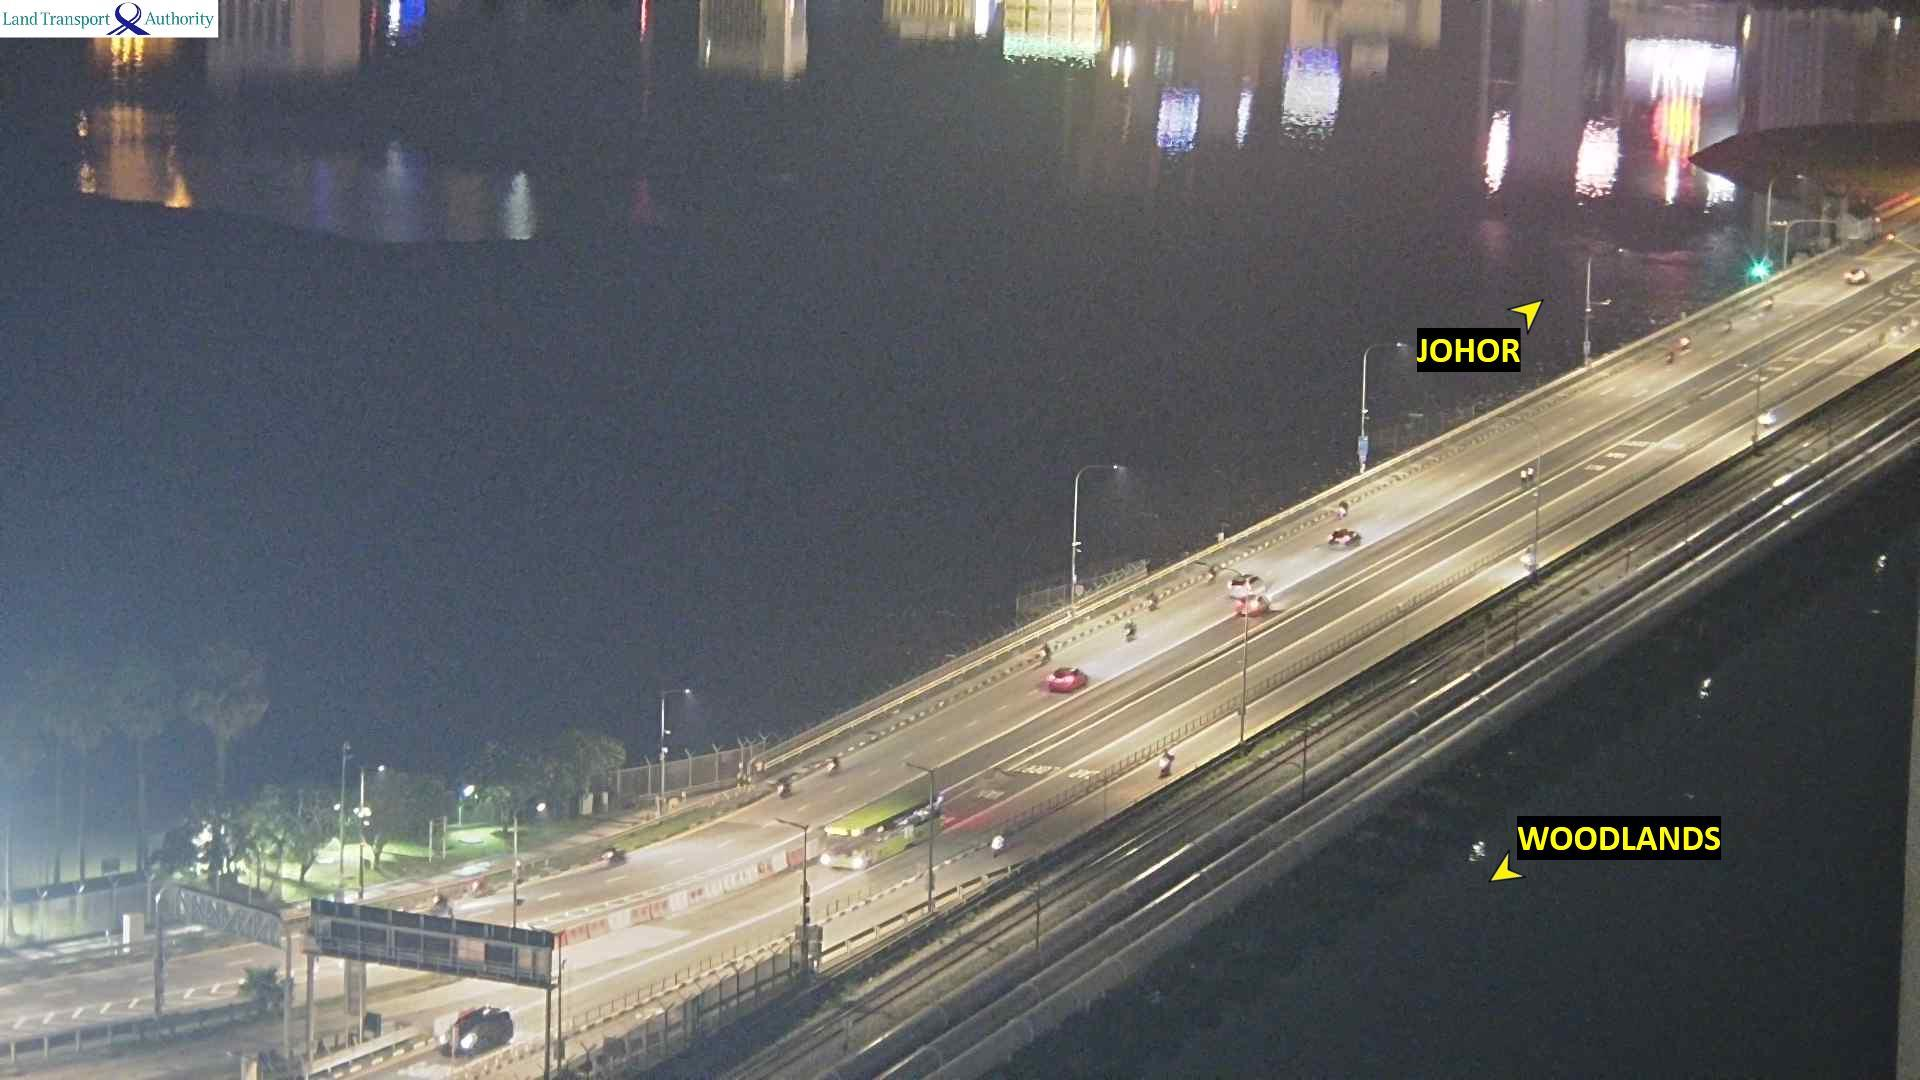vehicle-causeway-johor: (1051, 665, 1088, 690), (1233, 572, 1269, 593), (1237, 596, 1271, 616), (1329, 527, 1360, 547), (597, 848, 621, 872), (1850, 266, 1873, 287), (471, 872, 489, 897), (430, 891, 450, 914), (1039, 641, 1052, 667), (779, 774, 793, 798), (825, 753, 839, 777), (1147, 592, 1160, 612), (1760, 293, 1774, 310), (1337, 497, 1349, 516), (1207, 566, 1220, 582), (1669, 348, 1681, 365), (1124, 620, 1134, 637), (1722, 319, 1735, 332), (1680, 335, 1689, 347), (1884, 231, 1896, 240)
vehicle-causeway-singapore: (819, 782, 940, 870), (443, 1006, 514, 1058), (982, 828, 1013, 855), (1154, 748, 1174, 779), (1520, 545, 1536, 572), (1758, 407, 1775, 429)
